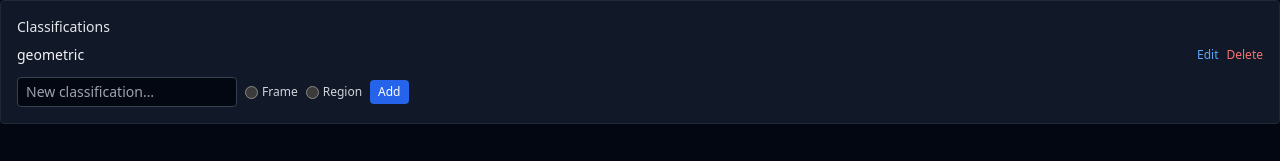
Scenario: ClassificationsPanel › requires a scope choice before creating a new classification
This screenshot has width=1280, height=161.
Expected: the text "geometric" is shown, [17, 45, 84, 65]
In the field with placeholder "New classification…": (127, 92) [17, 77, 237, 107], type "morphological"
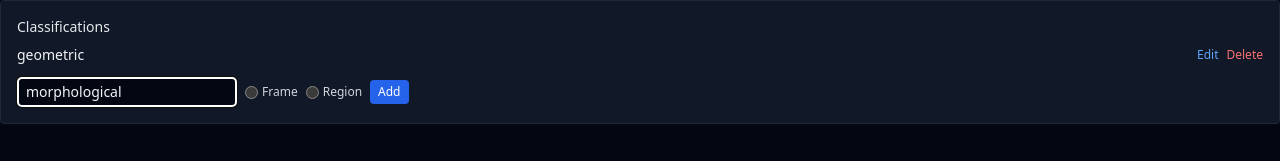
Click the button "Add": (389, 92) [370, 80, 408, 104]
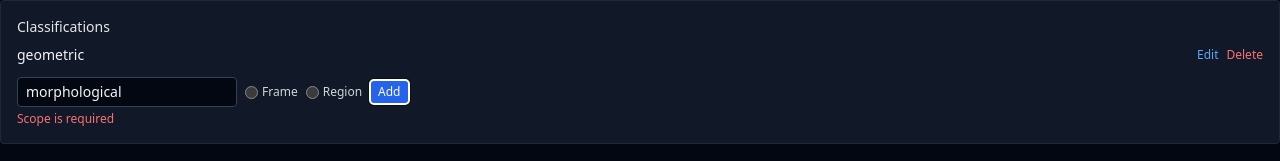
Result: the text "Scope is required" is shown at [17, 110, 114, 127]
